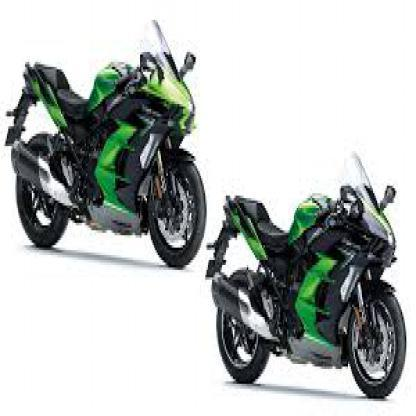Motorcycle: (9, 18, 207, 279), (212, 147, 415, 401)
